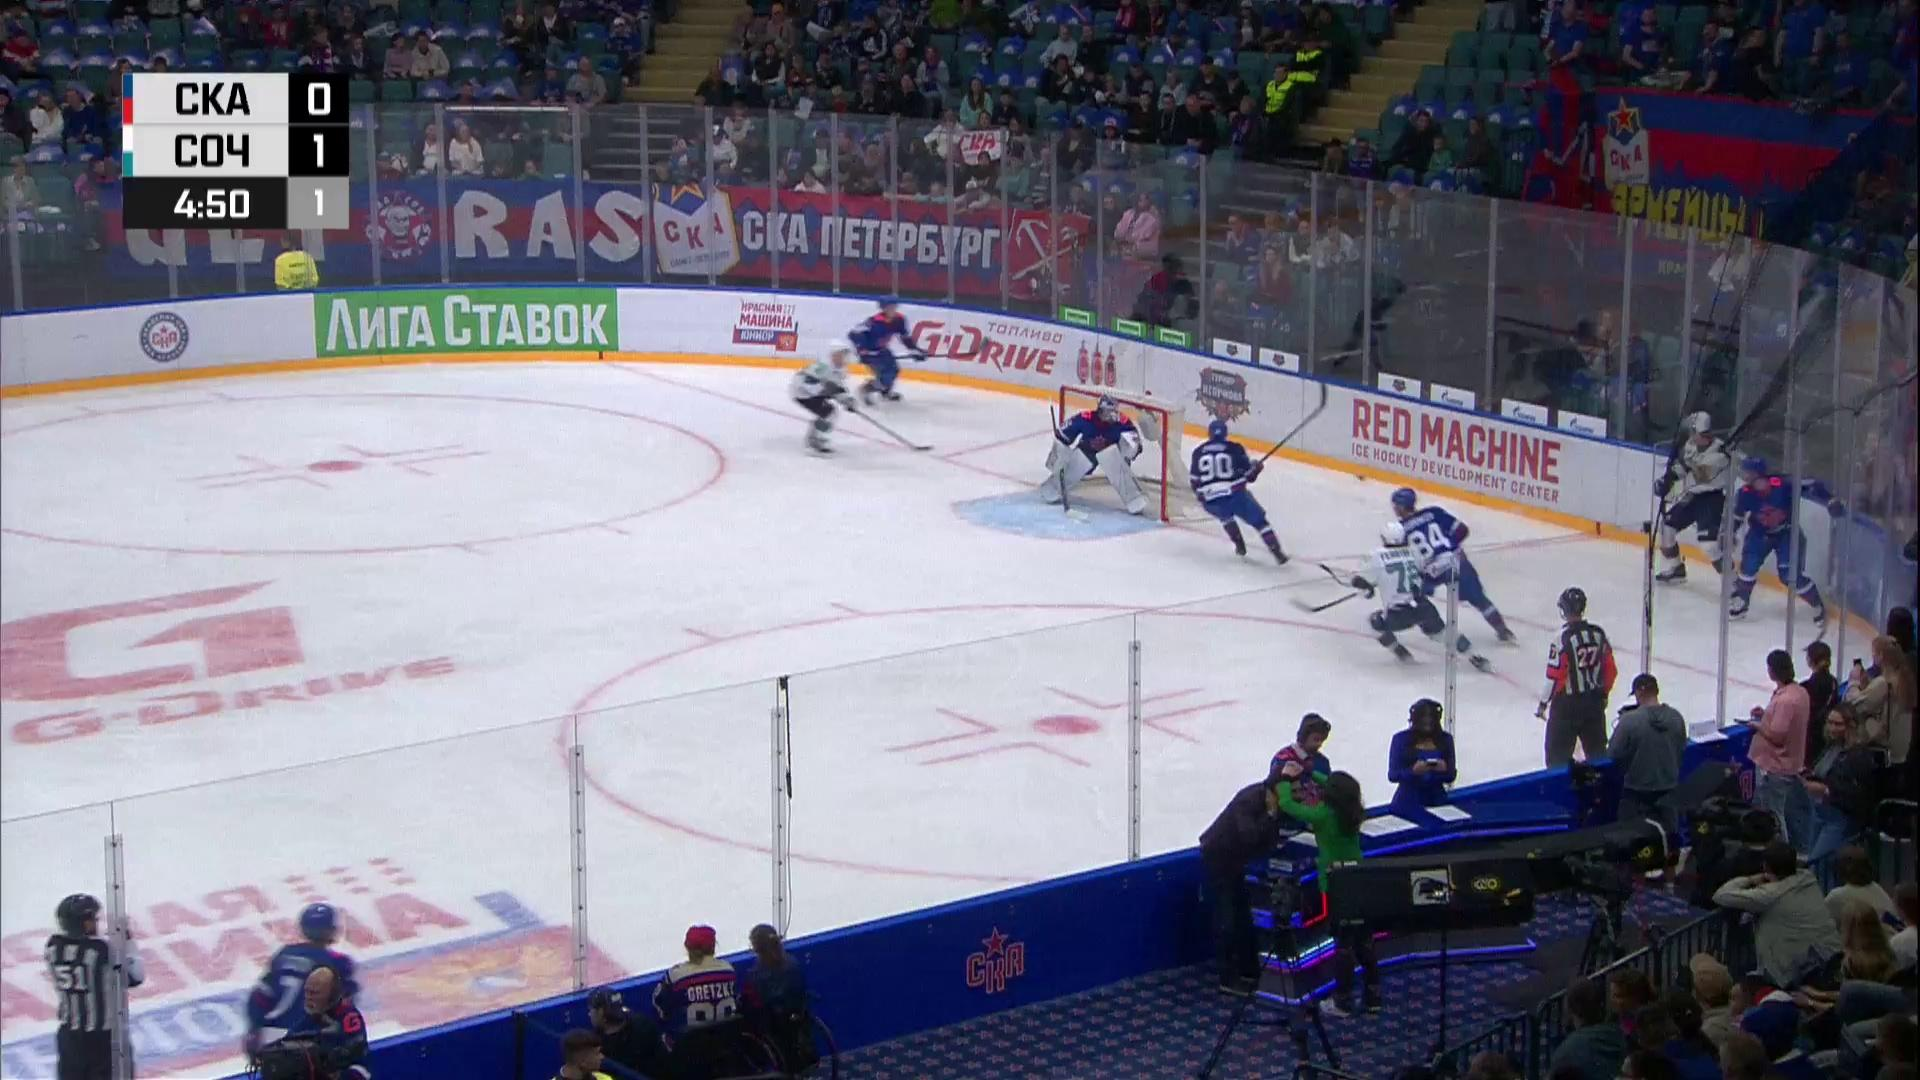ball: (1357, 475, 1366, 481)
